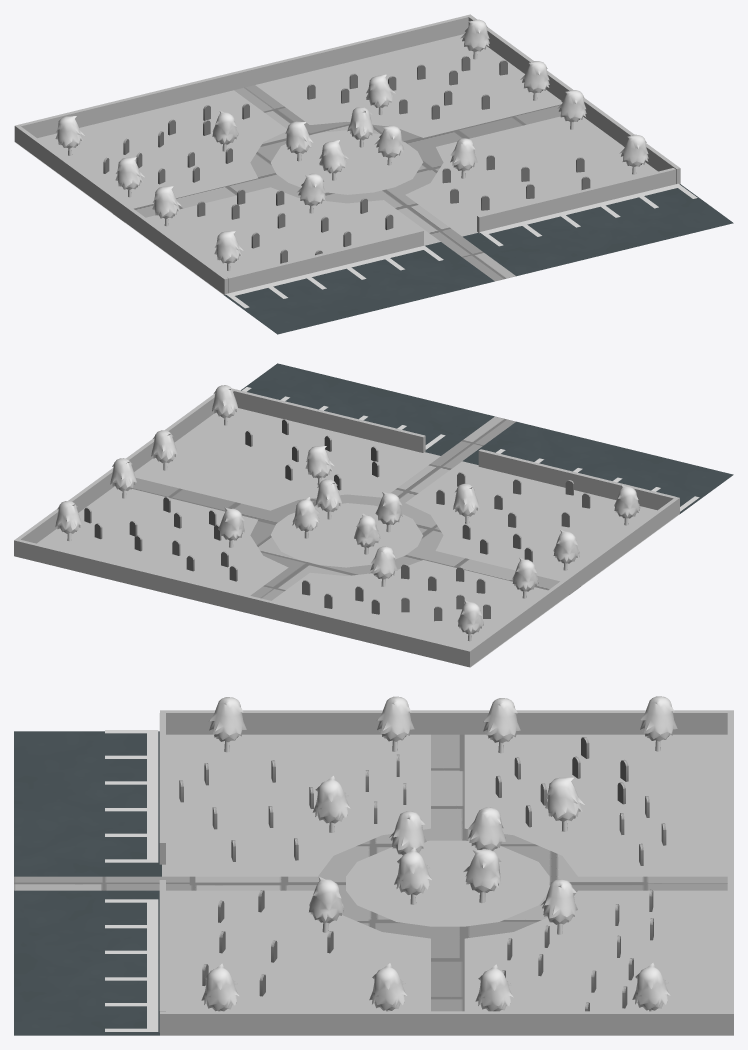
The model's file is tile_poi_cemetery_6x6_a.fbx.
The picture shows the model from 3 angles, top to bottom: view 1: azimuth 30°, elevation 25°; view 2: azimuth 150°, elevation 25°; view 3: azimuth 270°, elevation 25°; orthographic projection. The views are drawn at different scales.
Parts seen in each view (by area): view 1: tile_poi_cemetery_6x6_a; view 2: tile_poi_cemetery_6x6_a; view 3: tile_poi_cemetery_6x6_a.
Part boxes in pixels (left/top/right/bottom): tile_poi_cemetery_6x6_a: left=14, top=14, right=733, bottom=334; tile_poi_cemetery_6x6_a: left=14, top=363, right=733, bottom=667; tile_poi_cemetery_6x6_a: left=14, top=696, right=733, bottom=1035.
Size of the model in its own units: 9600 by 766 by 9600.
